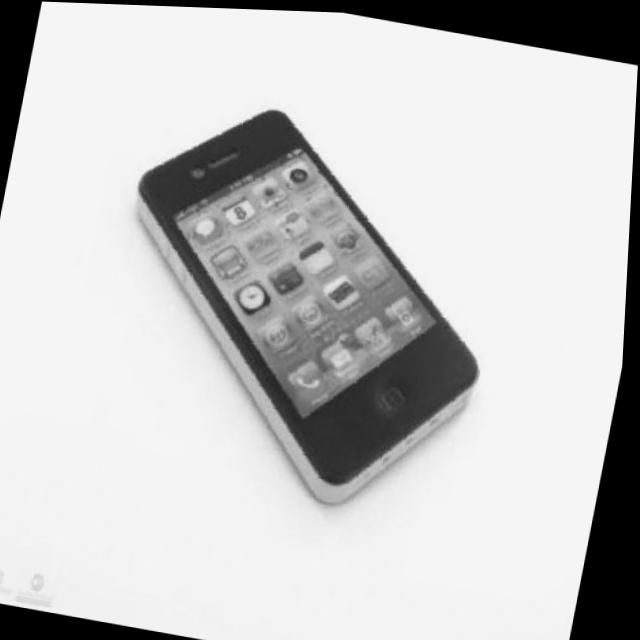Smartphone: (87, 85, 524, 525)
